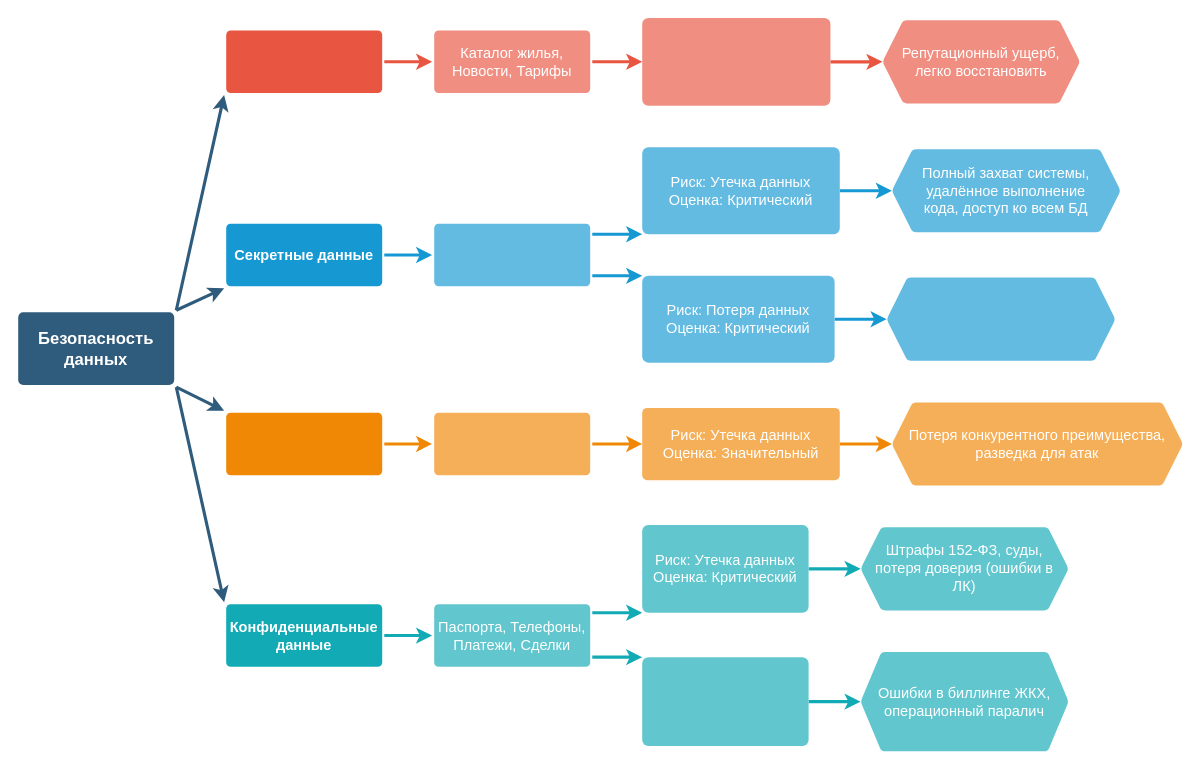
Some shapes in this 1200 by 770 pixel diagram are drawn without their labels. Each missing label, with the centre of its shape:
BI-отчеты, Логи, Планы ремонтов: point 512,443
Внутренние данные: point 304,443
Ключи шифрования, Пароли AD: point 512,254
Невозможность расшифровки, полная остановка бизнеса: point 1000,318
Публичные данные: point 304,61
Риск: Искажение данных Оценка: Незначительный: point 736,61
Риск: Некачественные данные Оценка: Значительный: point 725,701
